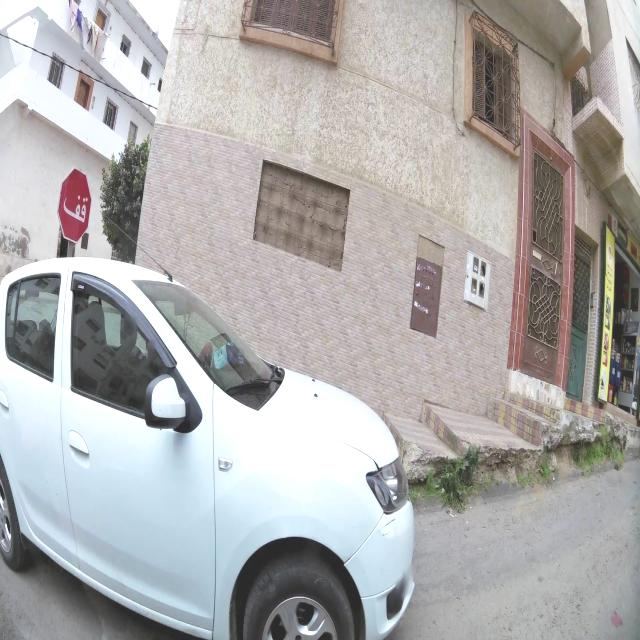car: (0, 256, 423, 638)
